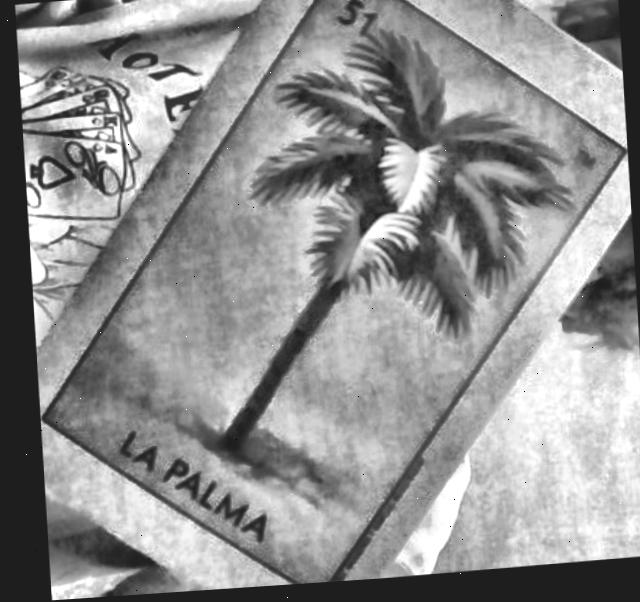La Palma: (43, 0, 623, 588)
